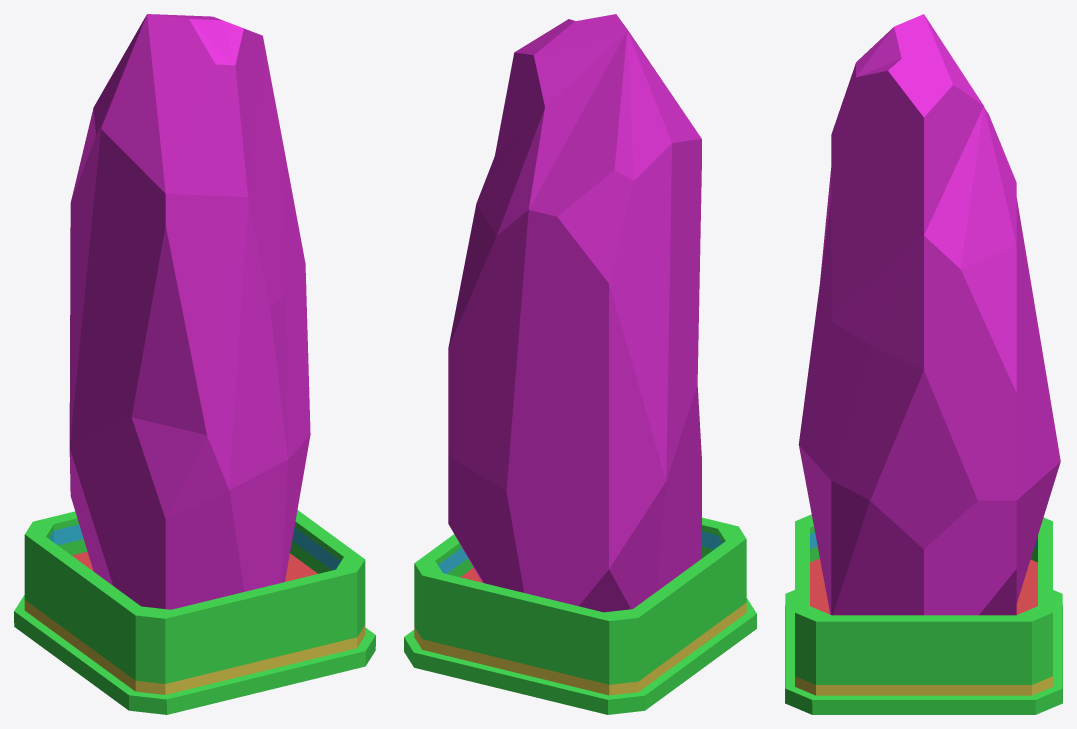
Rendered from Statue_Rock_01.fbx.
3 renders of one model, left to right at view 1: azimuth 30°, elevation 25°; view 2: azimuth 150°, elevation 25°; view 3: azimuth 270°, elevation 25°, orthographic. The views are drawn at different scales.
Visible parts, largest first — view 1: Statue_Rock_01; view 2: Statue_Rock_01; view 3: Statue_Rock_01.
Part boxes in pixels (<box>): Statue_Rock_01: <box>14,14,375,714</box>; Statue_Rock_01: <box>404,14,756,714</box>; Statue_Rock_01: <box>785,14,1062,714</box>.
Size of the model in its own units: 91.38 by 225 by 91.38.
